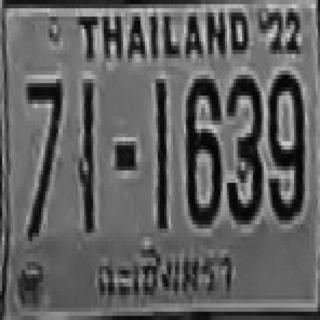N01: (79, 77, 94, 231), (155, 77, 165, 226)
N03: (226, 71, 260, 220)
N06: (185, 75, 220, 224)
N07: (25, 77, 62, 235)
N09: (268, 71, 303, 216)
P07: (94, 245, 237, 306)
